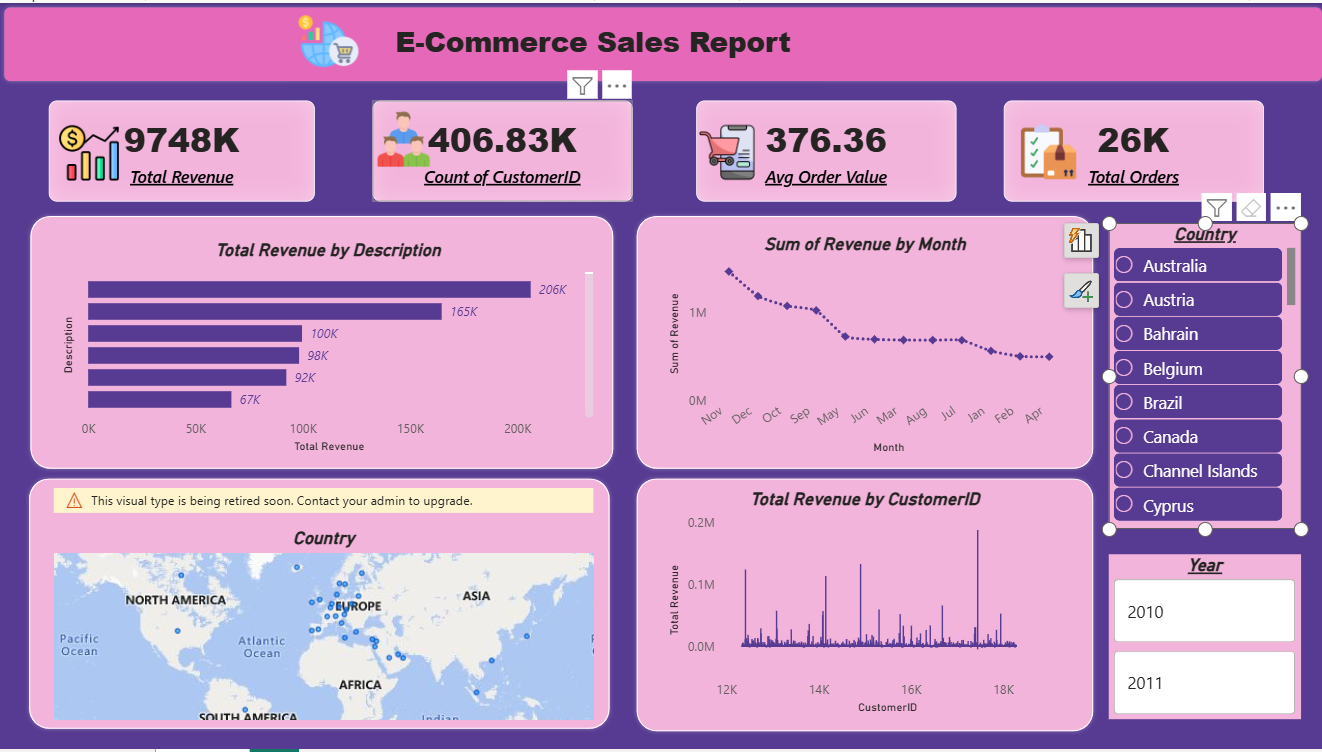

This screenshot's page, from the dashboard's own definition file:
{"tool":"powerbi","page":{"name":"Page 1","canvas":[1280,720],"ordinal":0},"visuals":[{"type":"shape","box":[0,0,1280,79.6],"z":0},{"type":"shape","box":[25.3,201.5,570.6,252.1],"z":0,"group":"g1"},{"type":"shape","box":[610.5,201.5,448.8,252.1],"z":0,"group":"g2"},{"type":"shape","box":[610.5,454.8,448.8,252.1],"z":0,"group":"g4"},{"type":"shape","box":[23.8,455.1,568.2,249.7],"z":0,"group":"g3"},{"type":"card","fields":{"Values":["data.Total Revenue"]},"box":[47.1,94.1,257,97.7],"z":1000},{"type":"card","fields":{"Values":["data.Total Orders"]},"box":[968.8,94.1,250.9,97.7],"z":2000},{"type":"card","fields":{"Values":["data.Avg Order Value"]},"box":[672,94.1,250.9,97.7],"z":3000},{"type":"card","fields":{"Values":["CountNonNull(data.CustomerID)"]},"box":[359.5,94.1,250.9,97.7],"z":4000},{"type":"group","id":"g1","title":"Group 1","box":[25.3,201.5,570.6,252.1],"z":5000},{"type":"group","id":"g2","title":"Group 1","box":[610.5,201.5,448.8,252.1],"z":6000},{"type":"clusteredBarChart","fields":{"Category":["data.Description"],"Y":["data.Total Revenue"]},"box":[55.1,227.5,522.4,211.1],"z":6000,"group":"g1"},{"type":"lineChart","fields":{"Y":["Sum(data.Revenue)"],"Category":["data.Month"]},"box":[640.6,222,388.5,218.4],"z":7000},{"type":"group","id":"g3","title":"Group 1","box":[23.8,455.1,568.2,249.7],"z":8000},{"type":"map","fields":{"Category":["data.Country"]},"box":[47.1,468.1,530.8,223.2],"z":9000},{"type":"group","id":"g4","title":"Group 1","box":[610.5,454.8,448.8,252.1],"z":10000},{"type":"columnChart","fields":{"Category":["data.CustomerID"],"Y":["data.Total Revenue"]},"box":[641,468,388,223],"z":11000},{"type":"listSlicer","fields":{"Values":["data.Country"]},"box":[1070.1,212.3,185.8,295.6],"z":12000},{"type":"advancedSlicerVisual","fields":{"Values":["data.Year"]},"box":[1070.1,532,185.8,159.3],"z":13000},{"type":"textbox","box":[376.4,13.3,421,48.3],"z":14000},{"type":"image","box":[982,115.8,60.3,55.5],"z":15000},{"type":"image","box":[672,109.8,59.1,68.8],"z":16000},{"type":"image","box":[55.5,115.8,60.3,57.9],"z":17000},{"type":"image","box":[275.1,6,84.5,61.5],"z":18000},{"type":"image","box":[359.5,103.8,60.3,55.5],"z":19000}]}

Visuals, with their boxes in screenshot pixels (x1, y1, x2, y2), scaled from the page's 1280x720 canvas onto the 1322x752 screenshot:
shape: {"x1": 0, "y1": 0, "x2": 1321, "y2": 83}
shape: {"x1": 26, "y1": 210, "x2": 615, "y2": 474}
shape: {"x1": 631, "y1": 210, "x2": 1094, "y2": 474}
shape: {"x1": 631, "y1": 475, "x2": 1094, "y2": 738}
shape: {"x1": 25, "y1": 475, "x2": 611, "y2": 736}
card - data.Total Revenue: {"x1": 49, "y1": 98, "x2": 314, "y2": 200}
card - data.Total Orders: {"x1": 1001, "y1": 98, "x2": 1260, "y2": 200}
card - data.Avg Order Value: {"x1": 694, "y1": 98, "x2": 953, "y2": 200}
card - CountNonNull(data.CustomerID): {"x1": 371, "y1": 98, "x2": 630, "y2": 200}
"Group 1" group: {"x1": 26, "y1": 210, "x2": 615, "y2": 474}
"Group 1" group: {"x1": 631, "y1": 210, "x2": 1094, "y2": 474}
clusteredBarChart - data.Description x data.Total Revenue: {"x1": 57, "y1": 238, "x2": 596, "y2": 458}
lineChart - Sum(data.Revenue) x data.Month: {"x1": 662, "y1": 232, "x2": 1063, "y2": 460}
"Group 1" group: {"x1": 25, "y1": 475, "x2": 611, "y2": 736}
map - data.Country: {"x1": 49, "y1": 489, "x2": 597, "y2": 722}
"Group 1" group: {"x1": 631, "y1": 475, "x2": 1094, "y2": 738}
columnChart - data.CustomerID x data.Total Revenue: {"x1": 662, "y1": 489, "x2": 1063, "y2": 722}
listSlicer - data.Country: {"x1": 1105, "y1": 222, "x2": 1297, "y2": 530}
advancedSlicerVisual - data.Year: {"x1": 1105, "y1": 556, "x2": 1297, "y2": 722}
textbox: {"x1": 389, "y1": 14, "x2": 824, "y2": 64}
image: {"x1": 1014, "y1": 121, "x2": 1077, "y2": 179}
image: {"x1": 694, "y1": 115, "x2": 755, "y2": 187}
image: {"x1": 57, "y1": 121, "x2": 120, "y2": 181}
image: {"x1": 284, "y1": 6, "x2": 371, "y2": 70}
image: {"x1": 371, "y1": 108, "x2": 434, "y2": 166}
